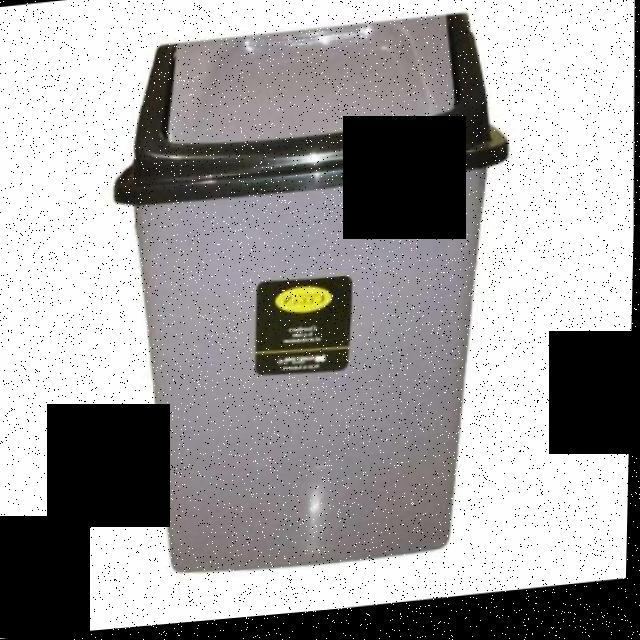bin: (72, 3, 526, 609)
